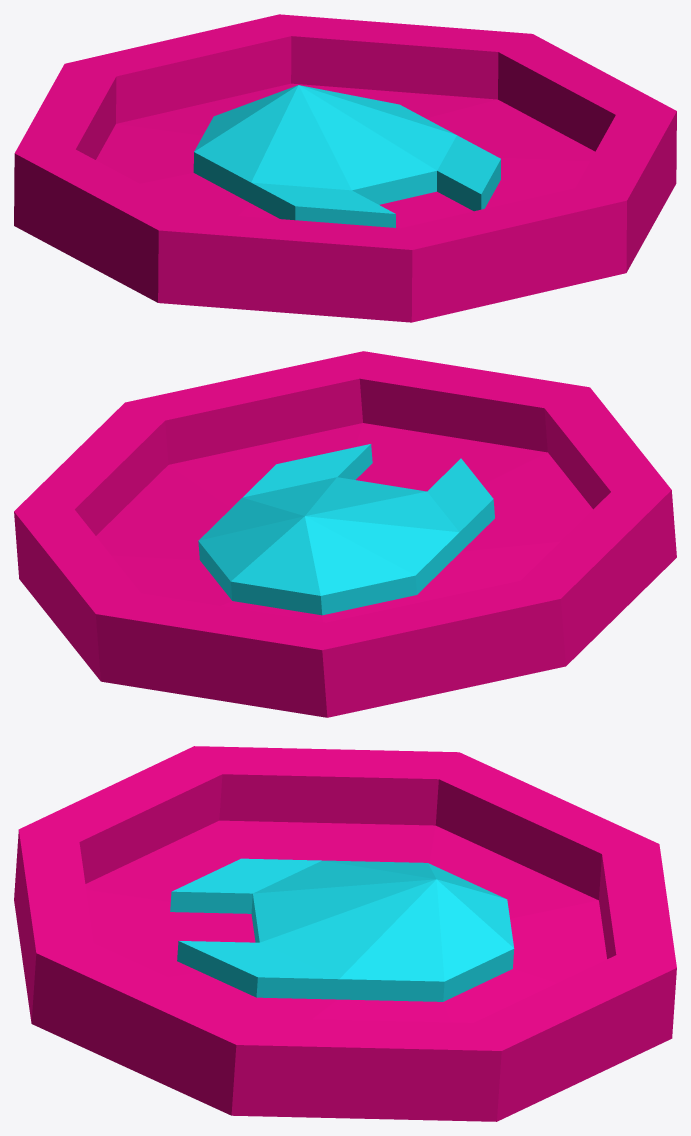
Rendered from meelk_token3.glb.
The picture shows the model from 3 angles, top to bottom: view 1: azimuth 30°, elevation 25°; view 2: azimuth 150°, elevation 25°; view 3: azimuth 270°, elevation 25°; orthographic projection. The views are drawn at different scales.
Parts seen in each view (by area): view 1: Cylinder.021; view 2: Cylinder.021; view 3: Cylinder.021.
Part boxes in pixels (box(x1,y1,x2,y2)): Cylinder.021: box(14, 14, 676, 322); Cylinder.021: box(14, 351, 676, 717); Cylinder.021: box(14, 746, 676, 1121).
Size of the model in its own units: 0.3001 by 0.0585 by 0.3002.
